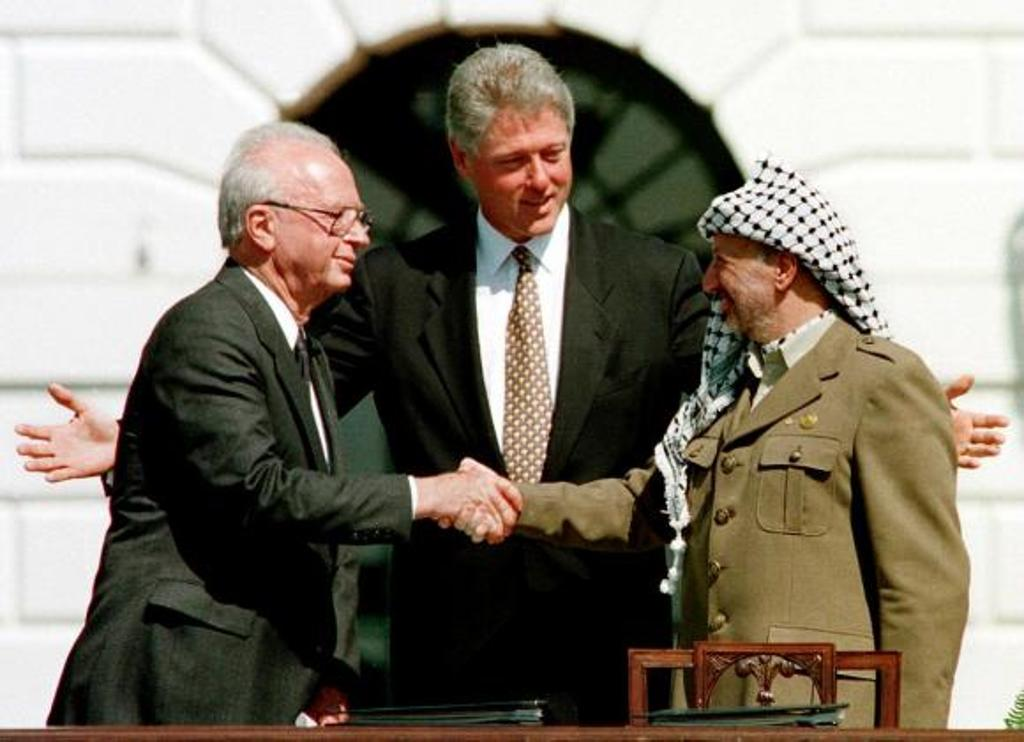face: (284, 140, 374, 292), (474, 110, 574, 236), (706, 214, 770, 340)
